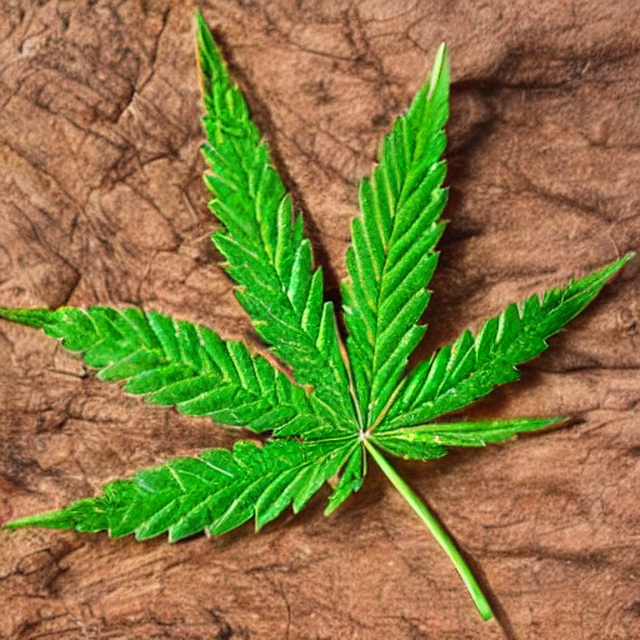Marijuana Leaf: (0, 9, 638, 624)
